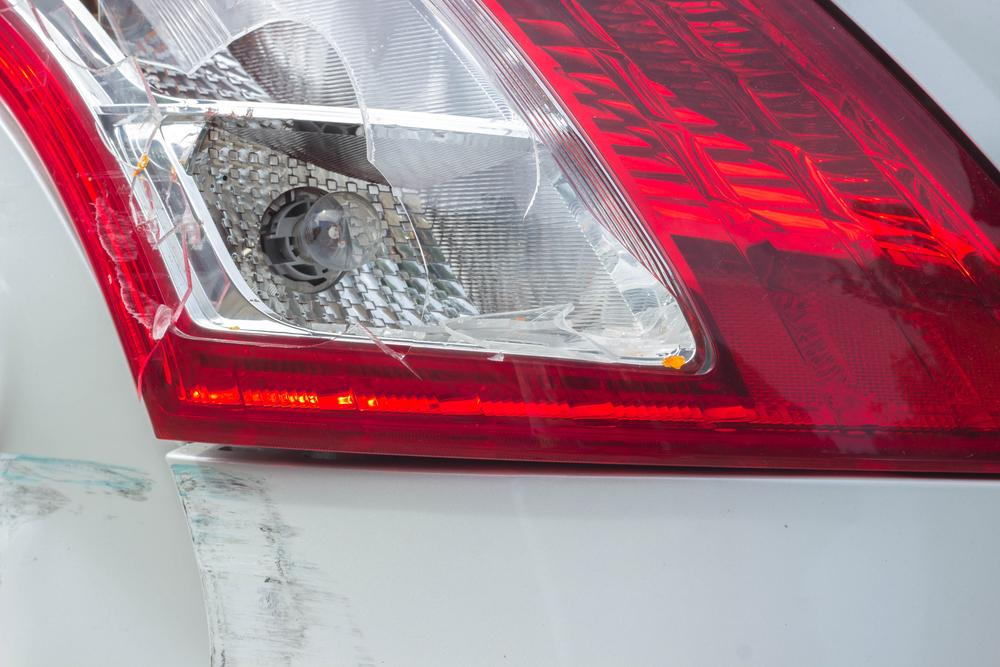lamp broken: (0, 0, 1000, 479)
scratch: (172, 464, 387, 667), (0, 449, 153, 525)
